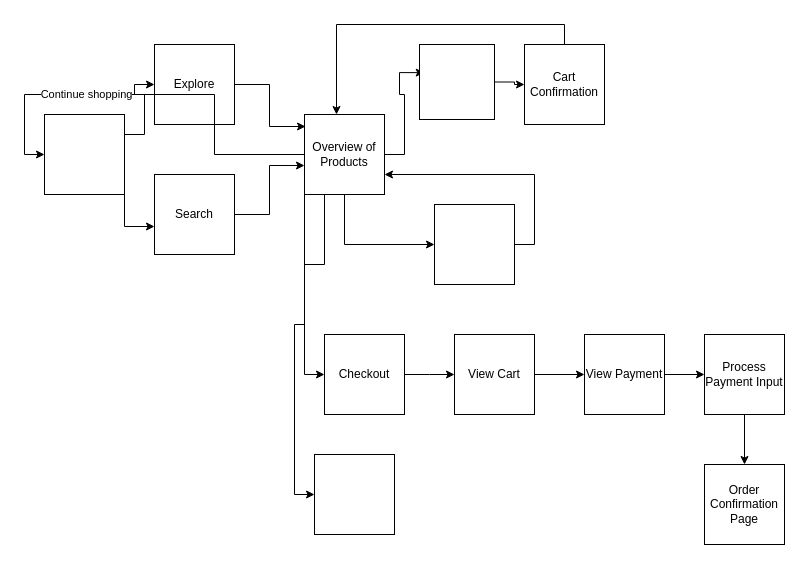
Image size: 802x562. Some labels were removed from this diagram. The shapes that lost their labels are listed below. From the top down, each one's centre as x and y in pixels, then its label:
At [456,82]: "Add to cart".
At [84,154]: "Start".
At [474,244]: "View specific product".
At [354,494]: "Exit Website".
